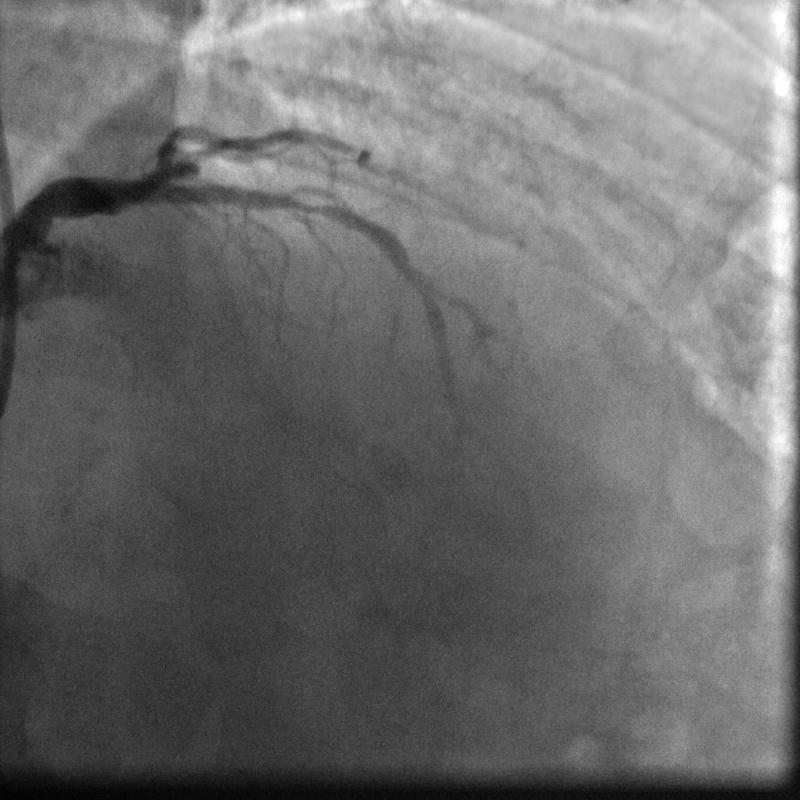Stenosis: (271, 189, 330, 223)
